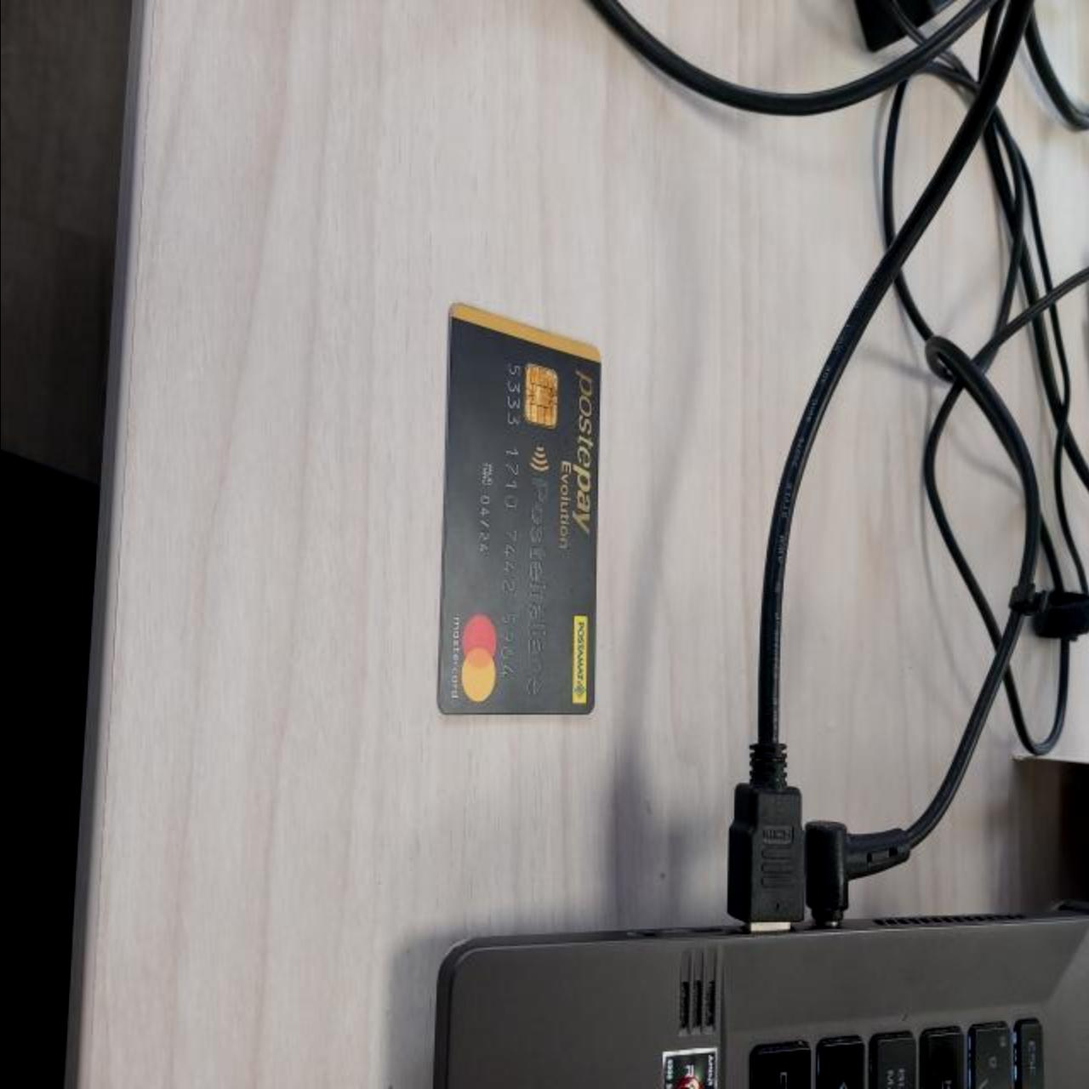credit_card: (429, 303, 599, 718)
